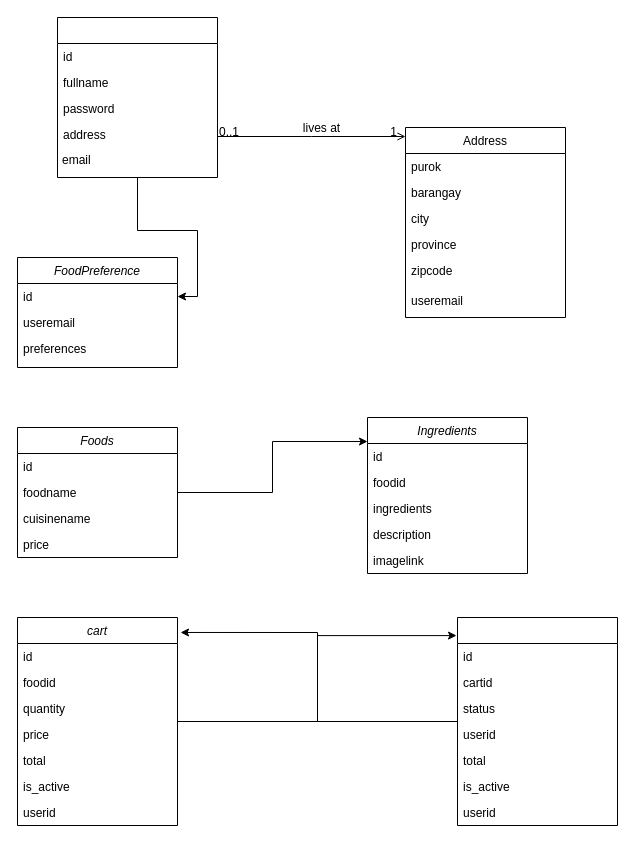
Some shapes in this 635 by 846 pixel diagram are drawn without their labels. Here are the shapes that lost their labels. From the top down, the box of each, then its label:
(56, 16, 218, 178): User
(456, 616, 618, 826): purchase
